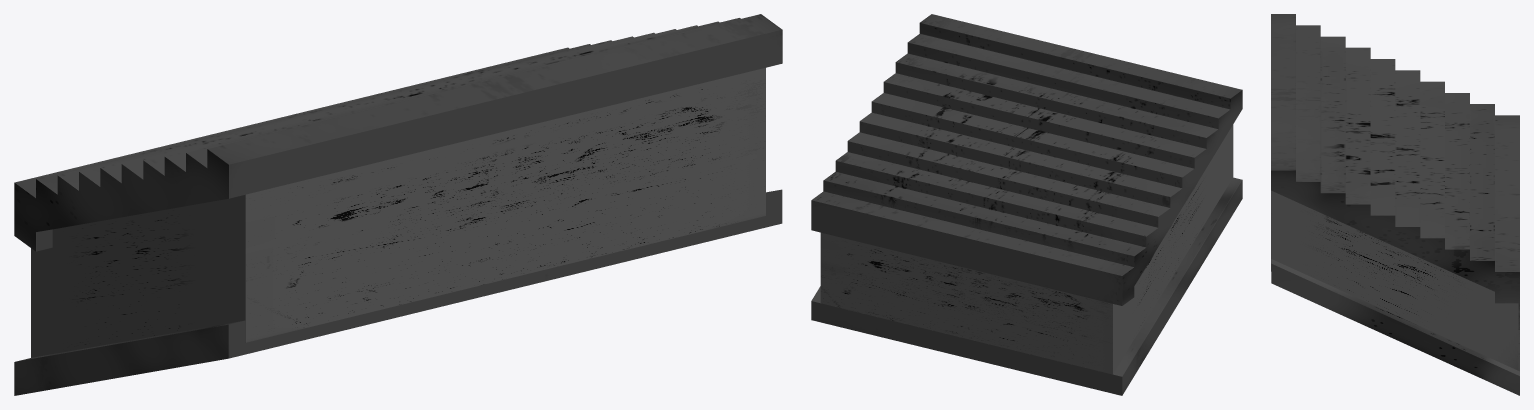
Rendered from Platform_2x3_Stair_V1.fbx.
3 renders of one model, left to right at view 1: azimuth 30°, elevation 25°; view 2: azimuth 150°, elevation 25°; view 3: azimuth 270°, elevation 25°, orthographic. The views are drawn at different scales.
Visible parts, largest first — view 1: Platform 2x3 Stair V1; view 2: Platform 2x3 Stair V1; view 3: Platform 2x3 Stair V1.
Part boxes in pixels (bbox=[...]): Platform 2x3 Stair V1: bbox=[14, 14, 782, 395]; Platform 2x3 Stair V1: bbox=[811, 14, 1242, 395]; Platform 2x3 Stair V1: bbox=[1271, 14, 1519, 395].
Bounding box in the file's own units: 298 × 200 × 200.
